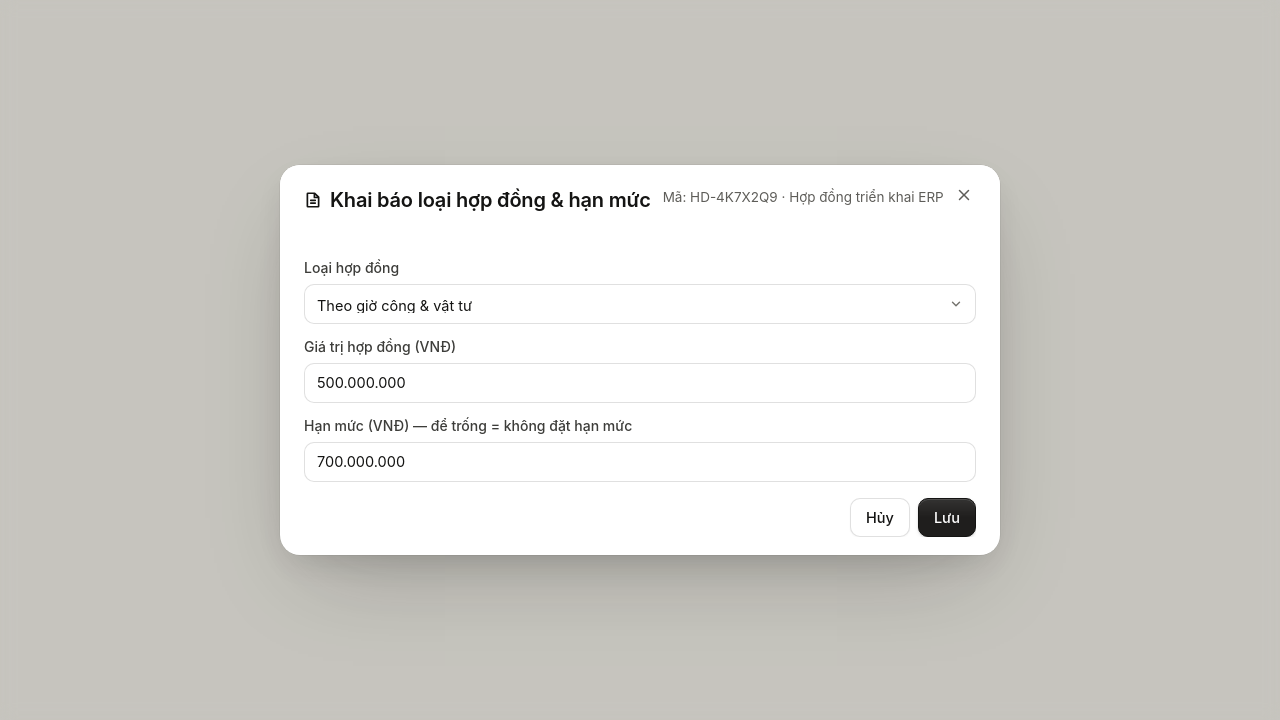
ContractTypeLimitModal (NCL-04-CN-002) › TC-02: chặn khi hạn mức nhỏ hơn giá trị hợp đồng
Replace the text in the field named "Giá trị hợp đồng" with "900000000": coordinates (640, 382) [304,362,976,402]
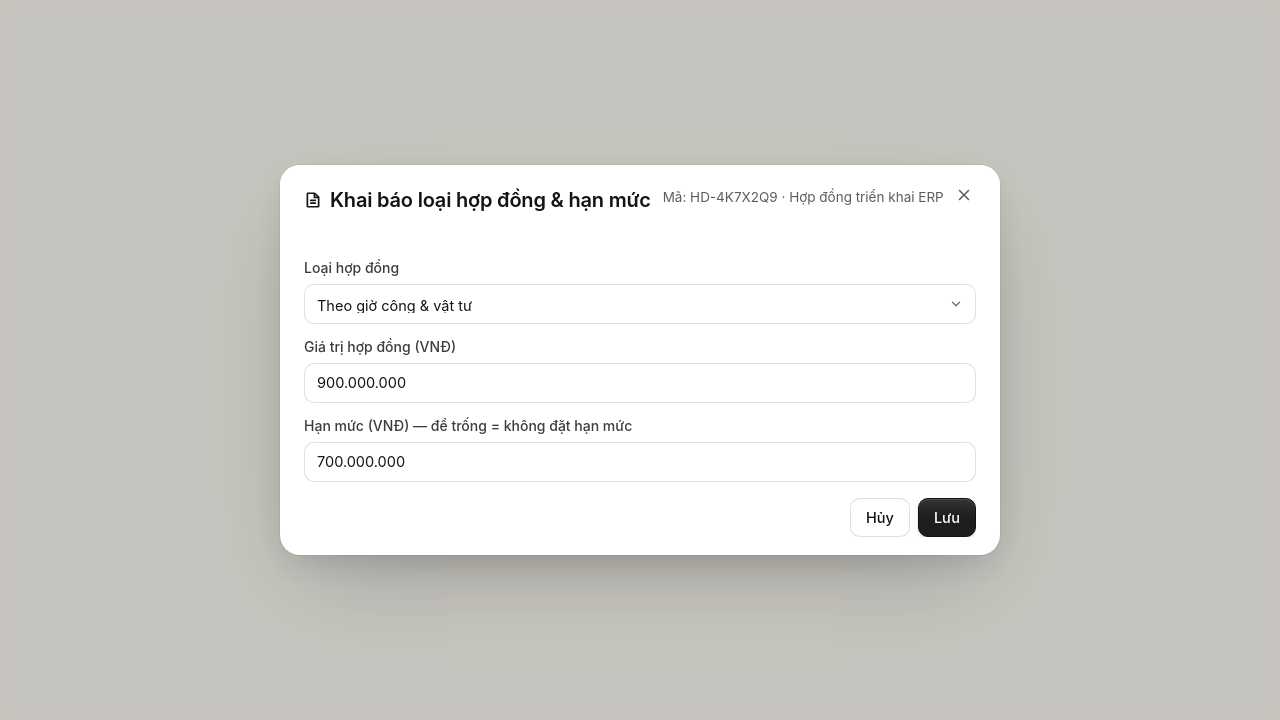
Replace the text in the field named "Hạn mức" with "500000000": coordinates (640, 462) [304,442,976,482]
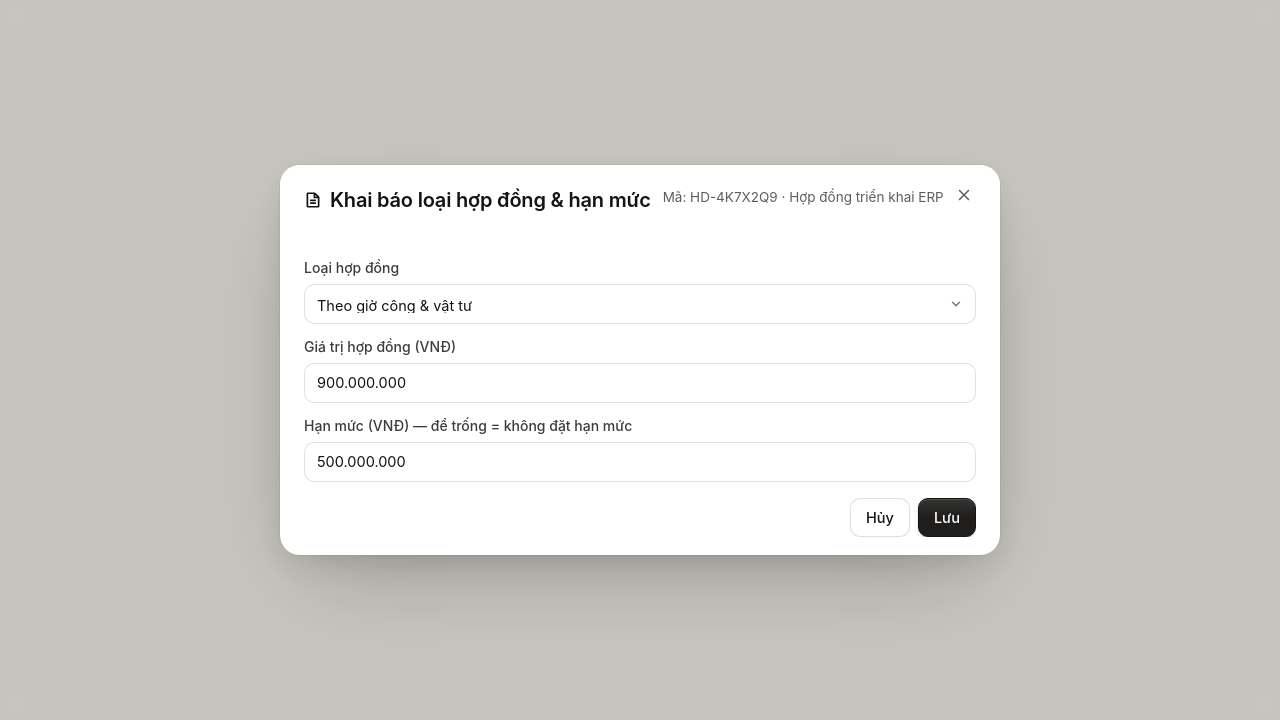
Click the button "Lưu": coordinates (947, 517) [918,498,976,537]
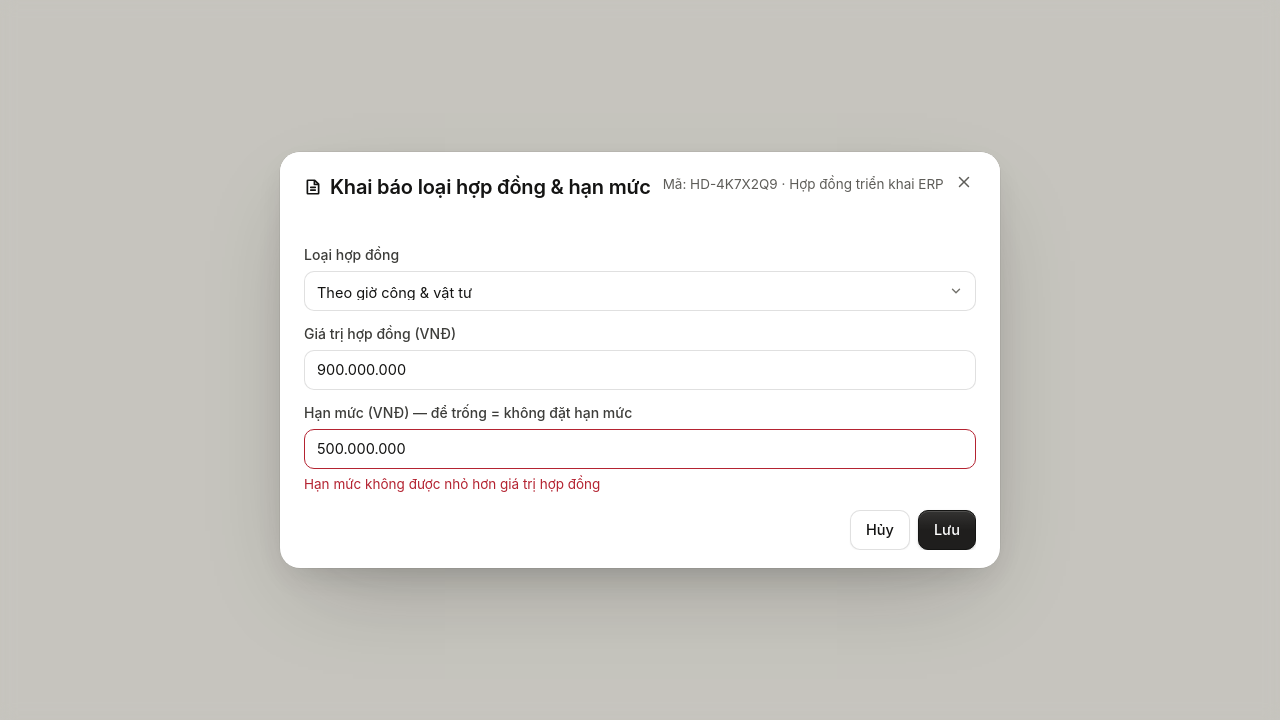
Expected: the text "Hạn mức không được nhỏ hơn giá trị hợp đồng" is shown, [304,476,600,492]
